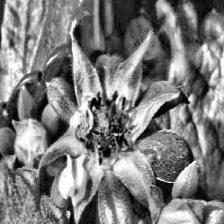Blossom Blight: (75, 90, 141, 166)
